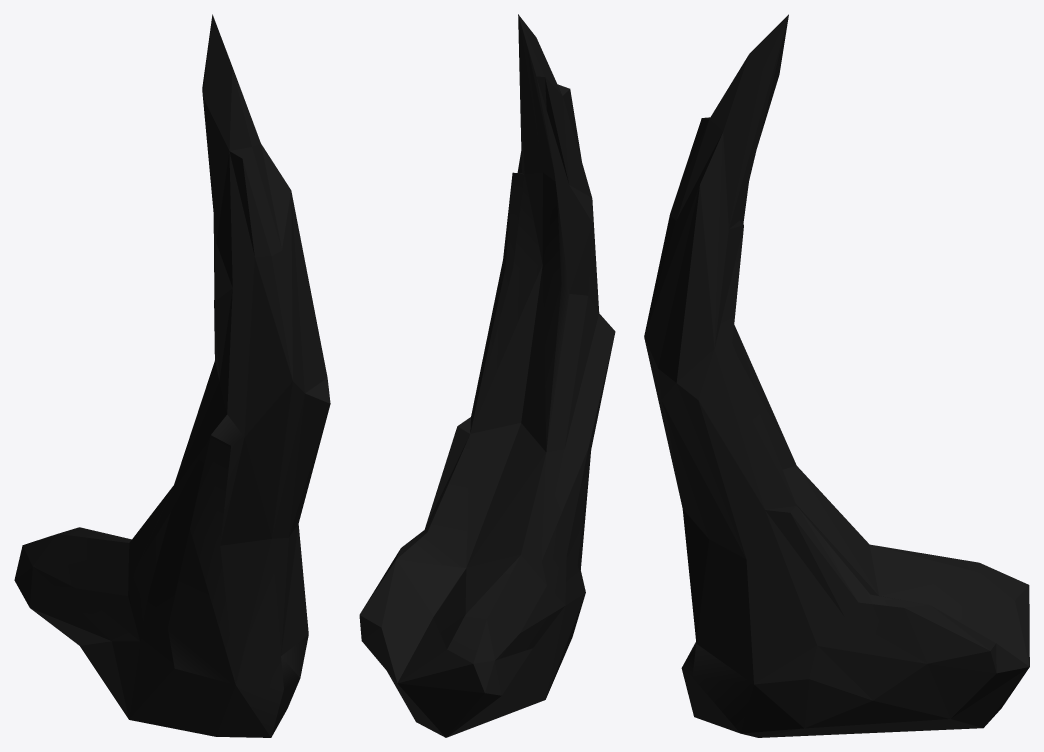
The model's file is pit_obelisk_b.gltf.
3 renders of one model, left to right at view 1: azimuth 30°, elevation 25°; view 2: azimuth 150°, elevation 25°; view 3: azimuth 270°, elevation 25°, orthographic. The views are drawn at different scales.
Parts seen in each view (by area): view 1: pit_obelisk_b; view 2: pit_obelisk_b; view 3: pit_obelisk_b.
Boxes of the visible parts, box(x1,y1,x2,y2) form: pit_obelisk_b: box(14, 14, 330, 737); pit_obelisk_b: box(359, 14, 615, 737); pit_obelisk_b: box(644, 14, 1029, 737).
Size of the model in its own units: 4.22 by 17.11 by 8.34.
1 material, 1 textured.
